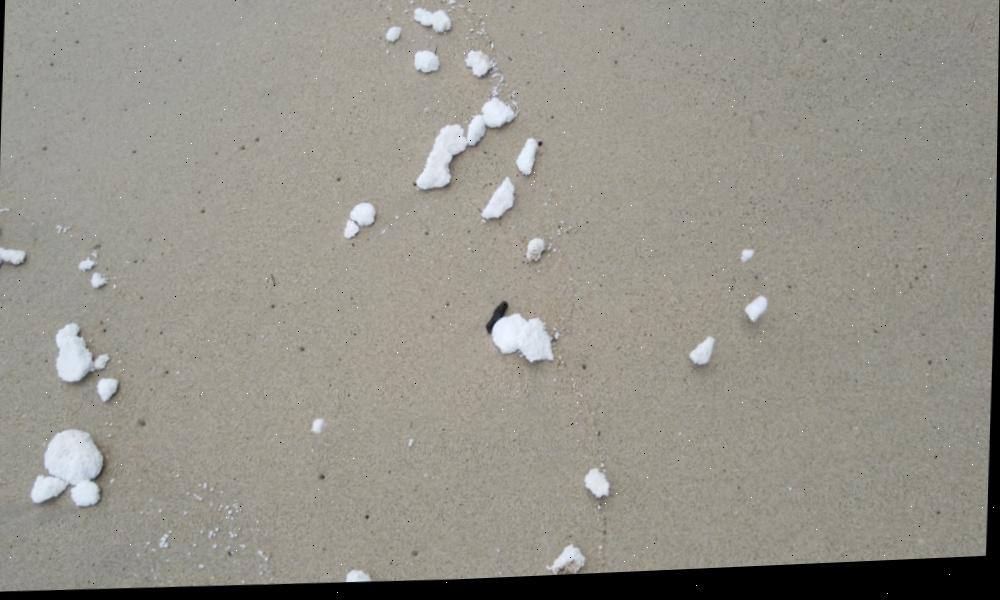styrofoam: (47, 425, 106, 484), (420, 122, 464, 195), (57, 322, 93, 384), (520, 322, 557, 369), (492, 316, 528, 362), (485, 181, 518, 223), (554, 545, 591, 578), (348, 199, 377, 240), (482, 99, 518, 132), (31, 476, 67, 507), (72, 478, 103, 512), (414, 9, 451, 37), (515, 142, 541, 179), (470, 51, 493, 83), (97, 375, 120, 405), (692, 342, 715, 371), (588, 476, 612, 501), (0, 244, 25, 268), (467, 118, 484, 153), (749, 299, 768, 328), (418, 50, 439, 75), (348, 569, 376, 586), (528, 242, 544, 266), (386, 29, 402, 44), (92, 272, 105, 290), (314, 417, 325, 437), (77, 259, 95, 270), (743, 255, 753, 268)
